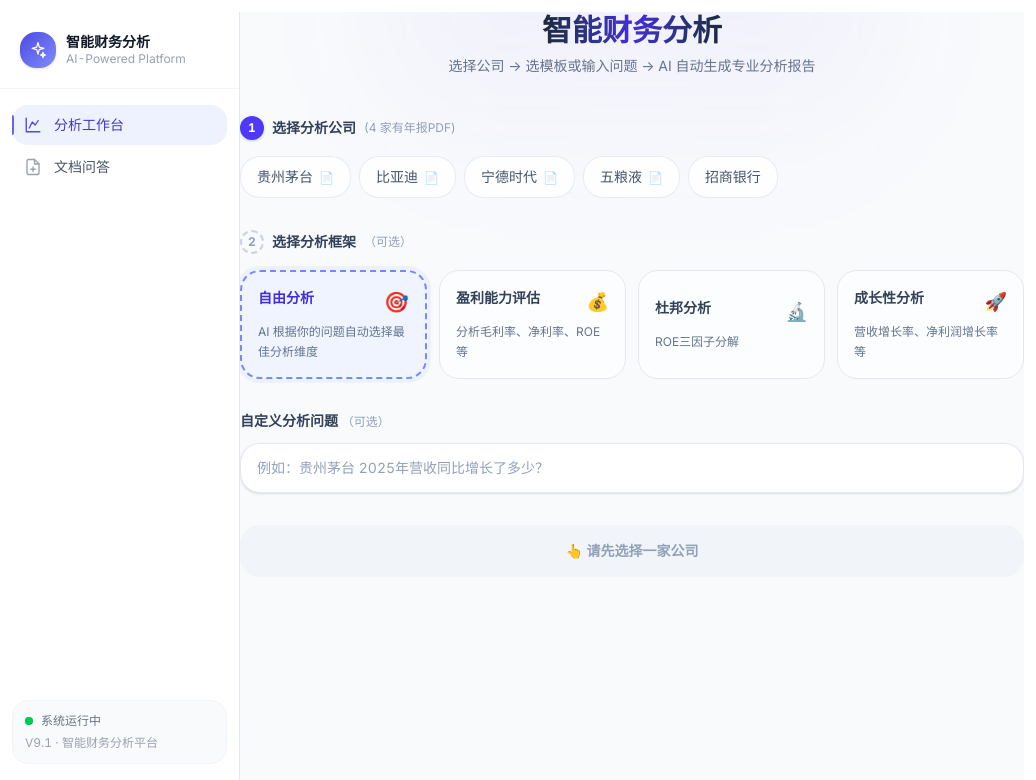
页面路由 › 点击"文档问答"导航切换到文档页面
点击侧边栏"文档问答"链接
Click the link "文档问答".
click(67, 167)  # box [24,158,110,176]
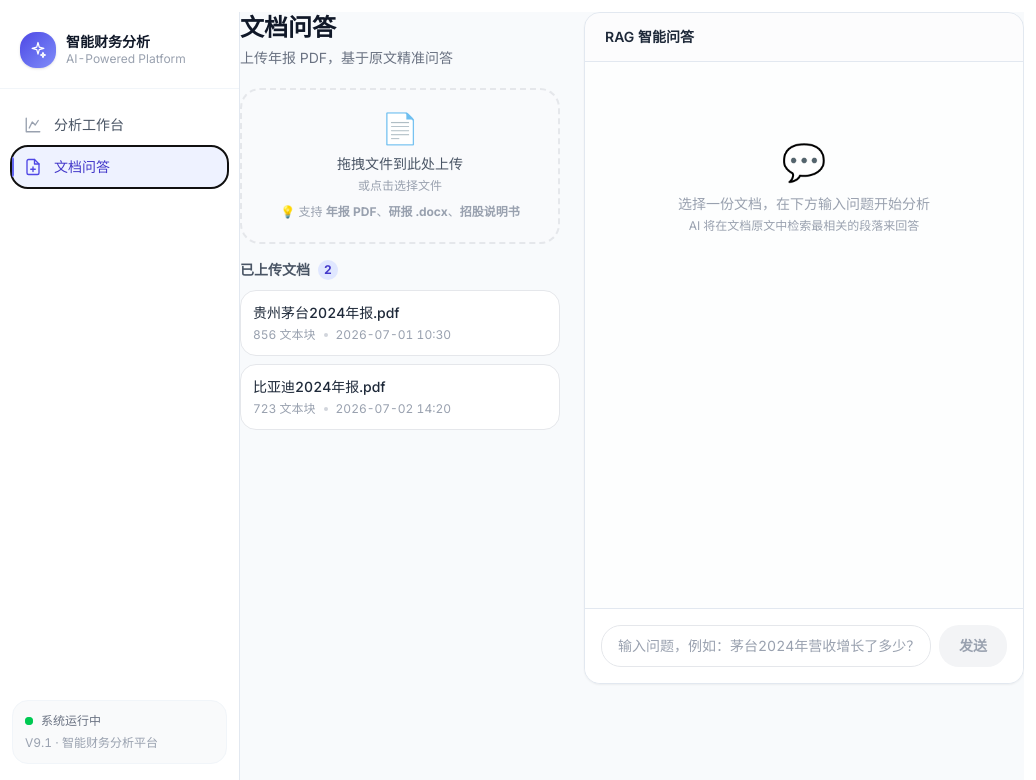
Expected: the heading "文档问答" is shown, [240,13,336,42]
